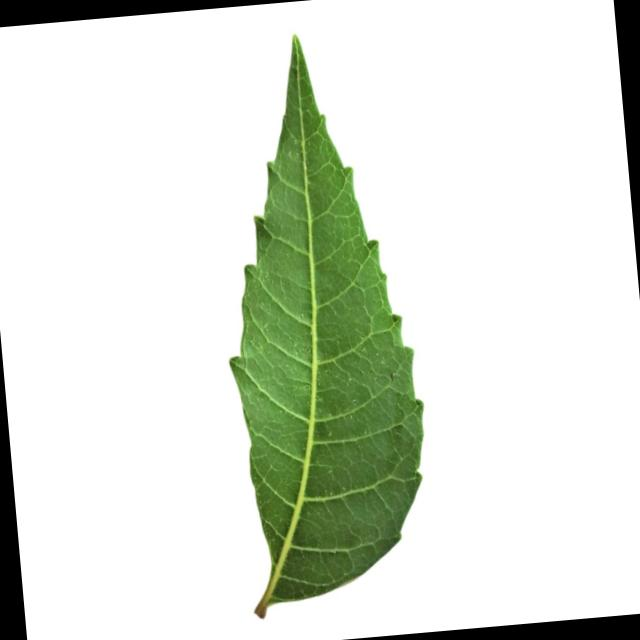Medicinal-Neem: (197, 20, 441, 618)
